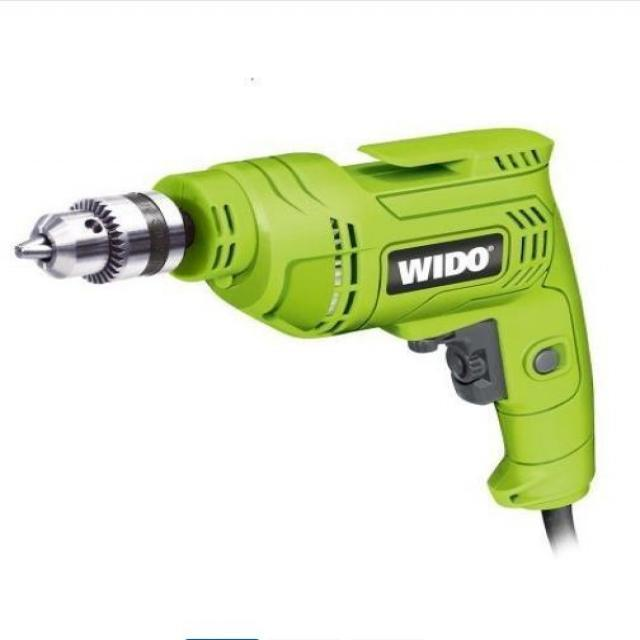drill: (12, 126, 600, 558)
